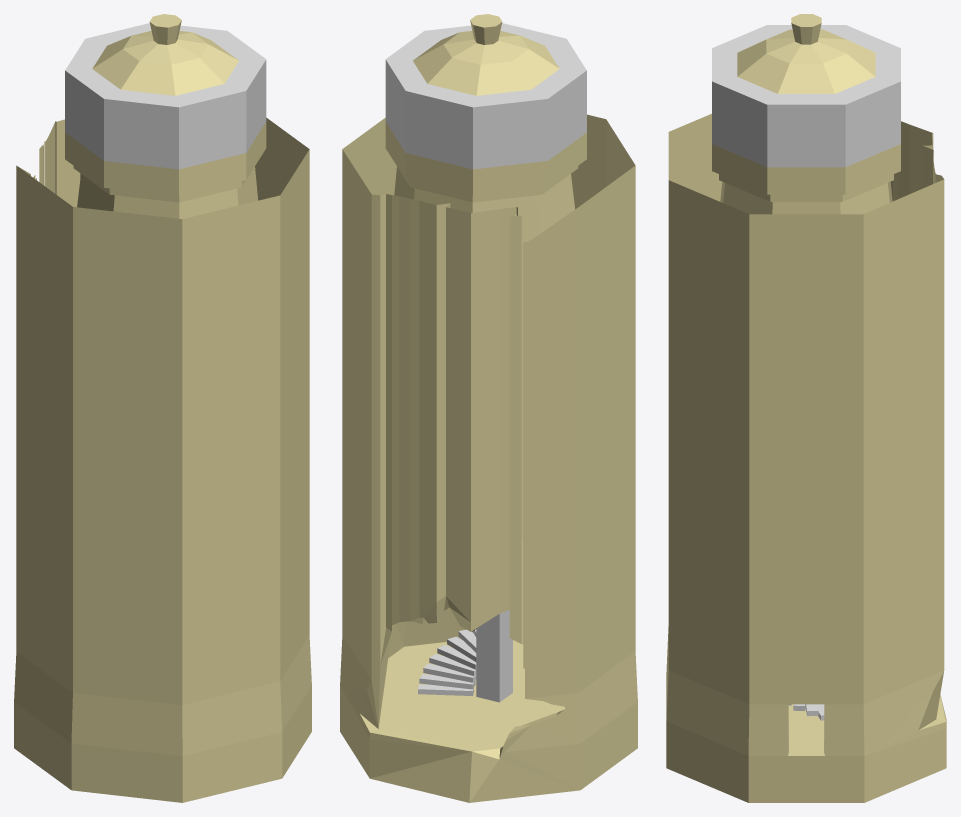
File: light_house.gltf
3 views of the same model, side by side, from view 1: azimuth 30°, elevation 25°; view 2: azimuth 150°, elevation 25°; view 3: azimuth 270°, elevation 25° (orthographic).
Visible parts, largest first — view 1: Tower.003, Tower, Rails.000, Tower.001, Rails.001; view 2: Tower.003, Tower, Rails.000, Tower.001, Rails.001, Cube.001, Circle; view 3: Tower.003, Tower, Rails.000, Tower.001, Rails.001.
Part boxes in pixels (x1,y1,x2,y2): Tower.003: [16, 117, 309, 704]; Tower: [14, 122, 311, 802]; Rails.000: [65, 23, 266, 148]; Tower.001: [92, 14, 238, 95]; Rails.001: [65, 101, 266, 169]; Tower.003: [342, 114, 635, 698]; Tower: [340, 122, 637, 802]; Rails.000: [385, 23, 586, 148]; Tower.001: [413, 14, 559, 95]; Rails.001: [385, 101, 586, 169]; Cube.001: [476, 610, 512, 702]; Circle: [418, 629, 476, 695]; Tower.003: [668, 113, 944, 704]; Tower: [666, 144, 946, 802]; Rails.000: [712, 25, 900, 146]; Tower.001: [737, 14, 875, 93]; Rails.001: [712, 123, 900, 167].
Size of the model in its own units: 12.55 by 35.83 by 12.55.
